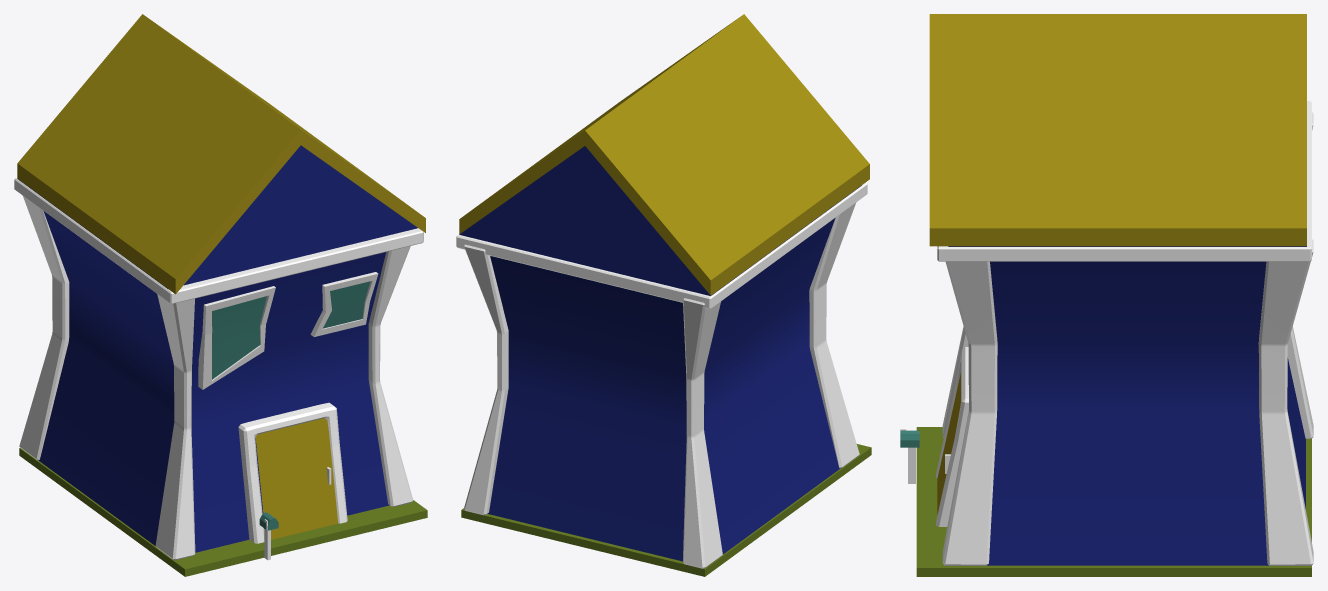
The model's file is house01.fbx.
The picture shows the model from 3 angles, left to right: view 1: azimuth 30°, elevation 25°; view 2: azimuth 150°, elevation 25°; view 3: azimuth 270°, elevation 25°; orthographic projection. The views are drawn at different scales.
Visible parts, largest first — view 1: transform6 (×5); view 2: transform6 (×4); view 3: transform6 (×4).
Boxes of the visible parts, bbox=[...] form: transform6 (×5): bbox=[14, 14, 427, 576]; transform6 (×4): bbox=[456, 14, 871, 576]; transform6 (×4): bbox=[900, 14, 1313, 576].
Size of the model in its own units: 23.65 by 36.85 by 28.04.
